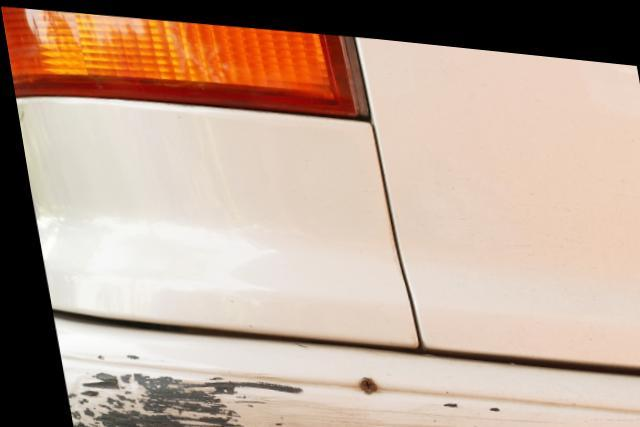scratch: (48, 347, 595, 427)
